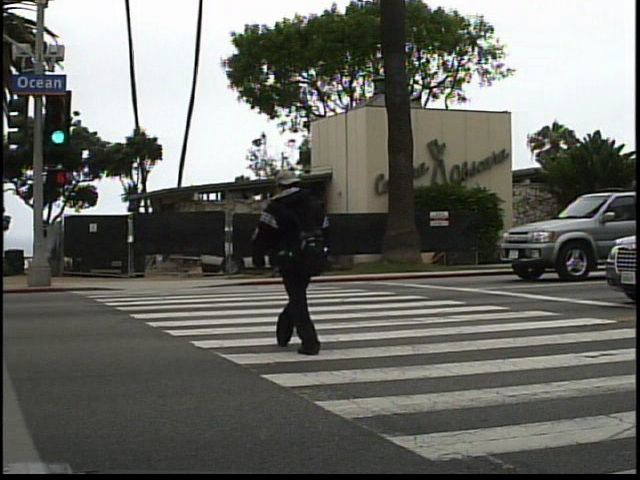person: (245, 161, 349, 358)
